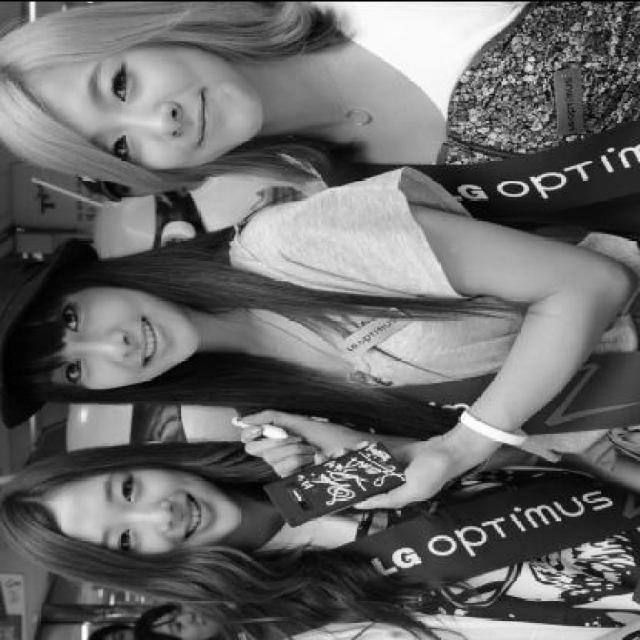fake: (242, 443, 412, 523)
